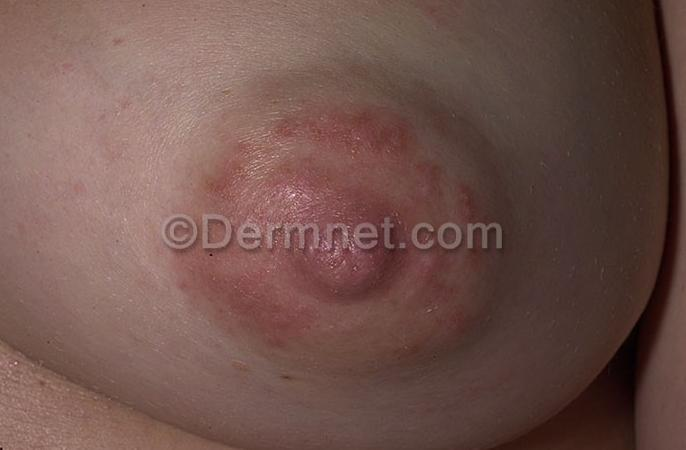edema 2: (154, 61, 504, 383)
eritema 3: (158, 65, 501, 388)
